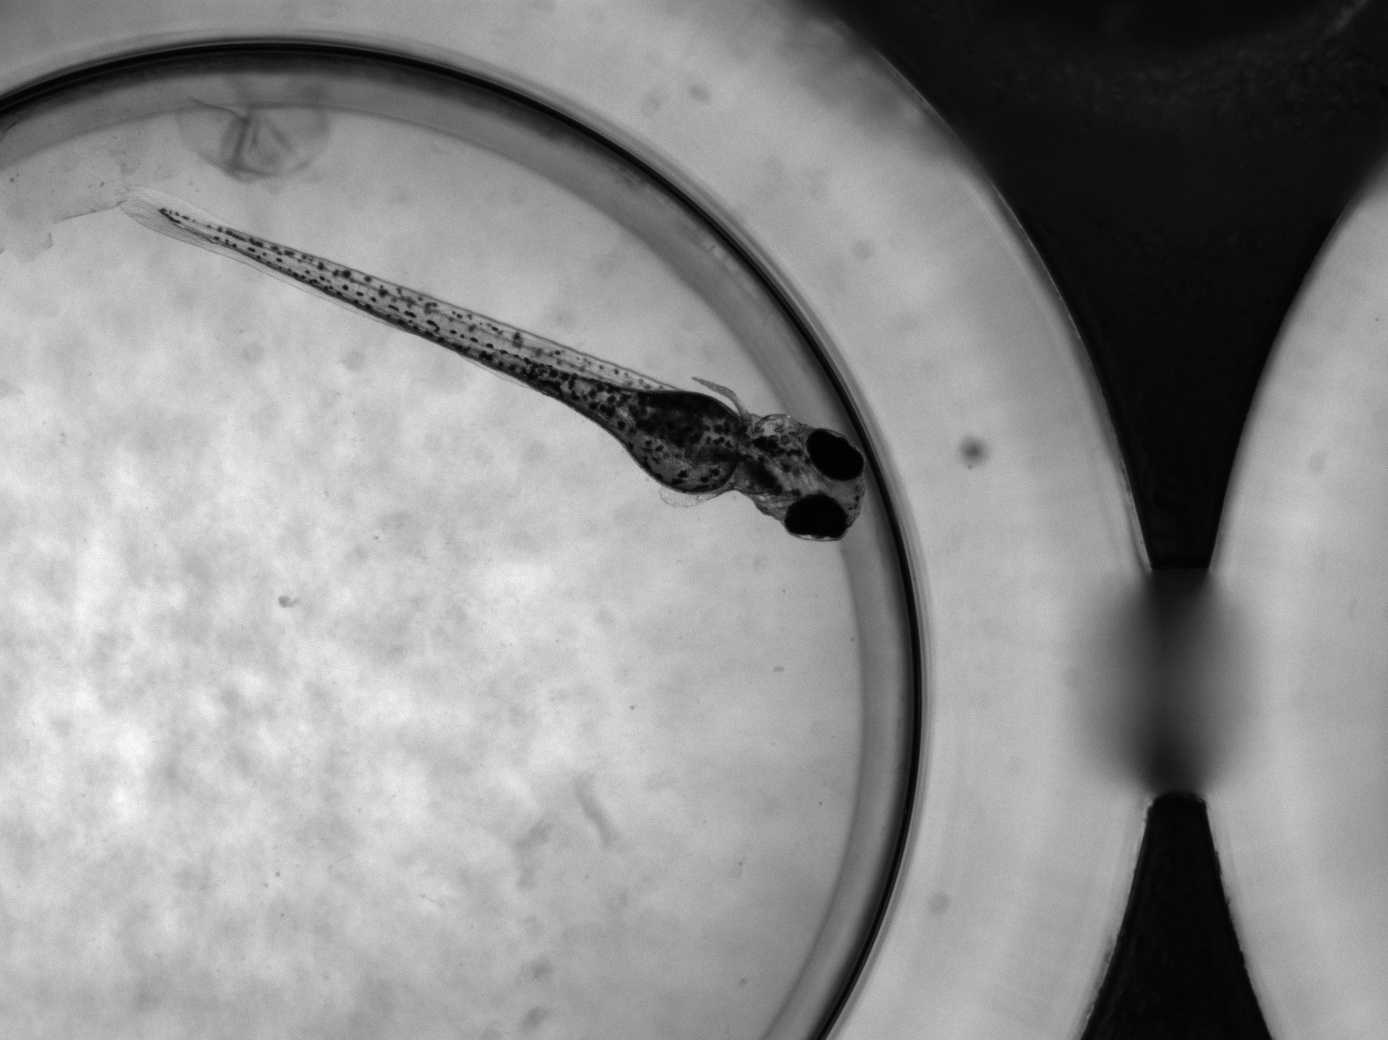embryo: (161, 206, 870, 544)
eye: (806, 428, 863, 482), (785, 494, 849, 540)
yolksac: (632, 390, 742, 494)
